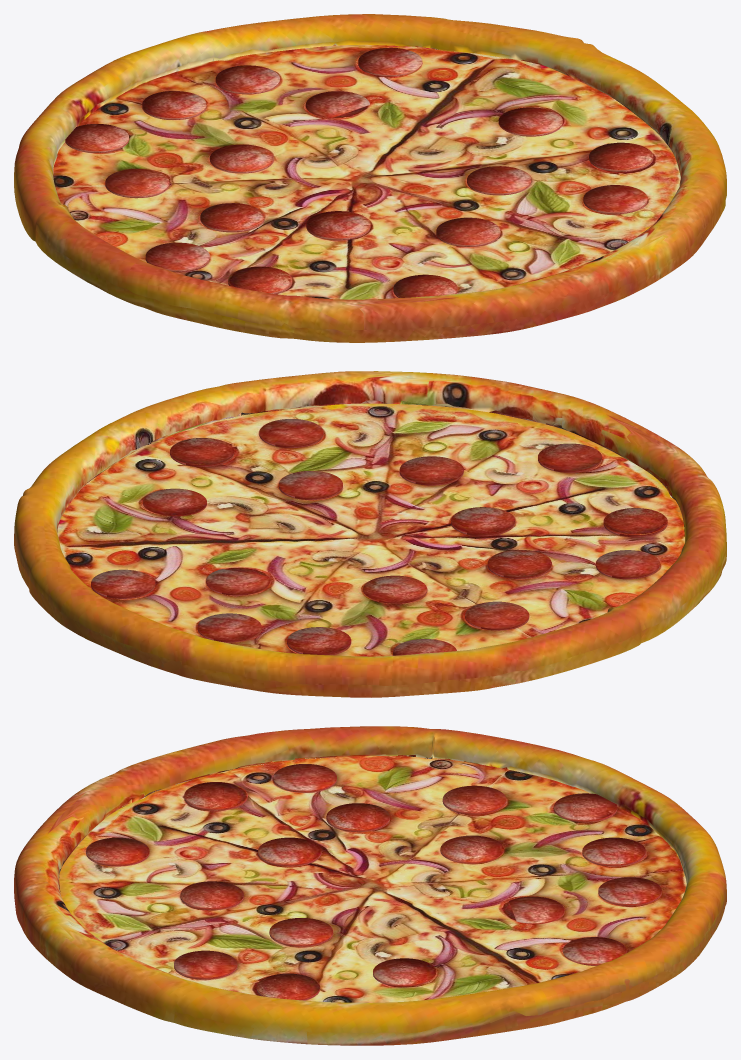
Rendered from Pizza.fbx.
3 renders of one model, top to bottom at view 1: azimuth 30°, elevation 25°; view 2: azimuth 150°, elevation 25°; view 3: azimuth 270°, elevation 25°, orthographic.
Visible parts, largest first — view 1: Pizza; view 2: Pizza; view 3: Pizza.
Boxes of the visible parts, x1=… form: Pizza: x1=14, y1=14, x2=726, y2=342; Pizza: x1=14, y1=371, x2=726, y2=697; Pizza: x1=14, y1=726, x2=726, y2=1045.
Bounding box in the file's own units: 34.47 × 1.86 × 35.15.
1 material, 1 textured.
